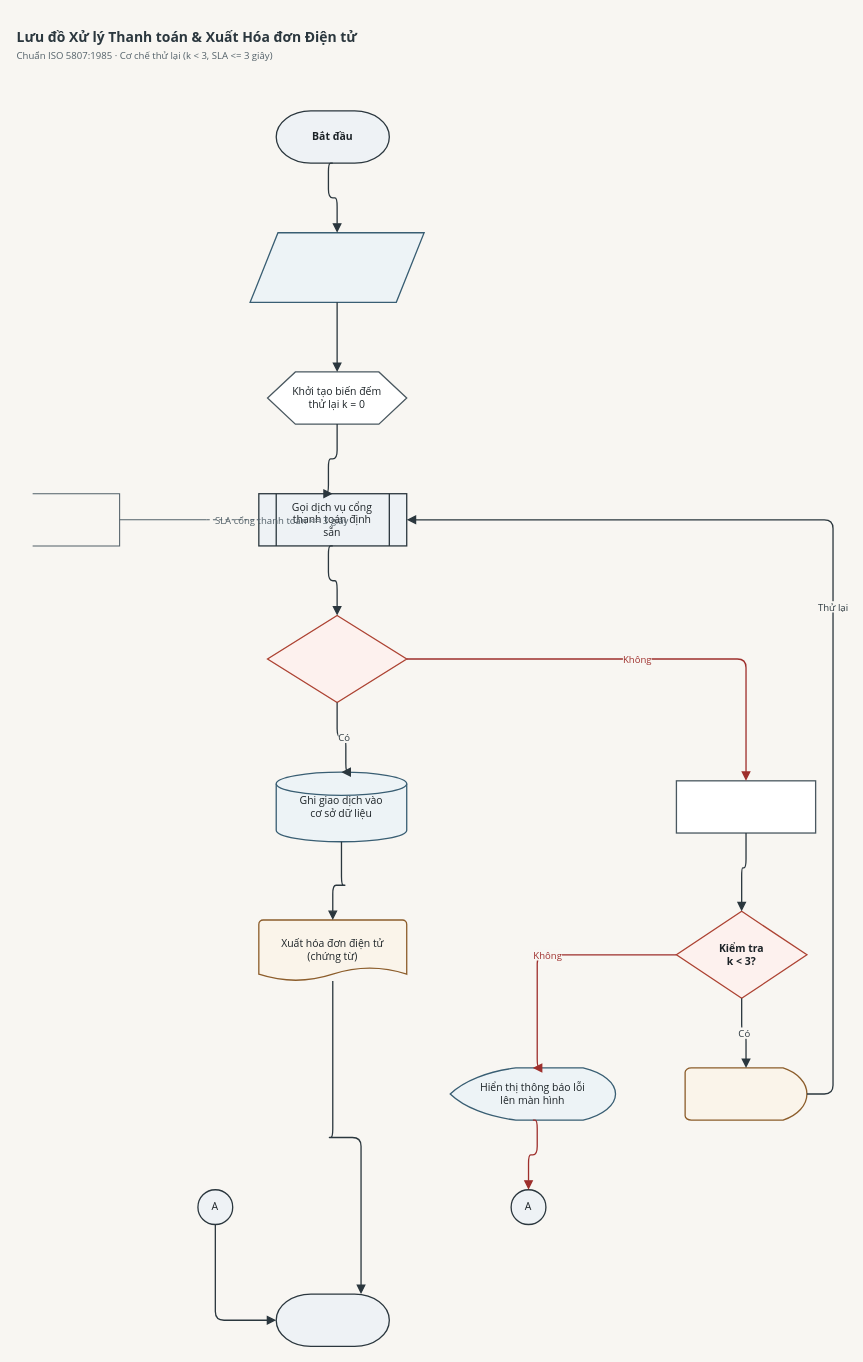
Image size: 863x1362. Some labels were removed from this diagram. The shapes that lost their labels are listed below. From the top down, each one's box as (x1, y1, x2, y2) in pixels, then its label:
(249, 232, 424, 303): Nhập thông tin đơn hàng & phương thức thanh toán
(266, 614, 407, 703): Giao dịch thành công?
(675, 780, 816, 833): Tăng biến đếm k = k + 1
(684, 1067, 807, 1120): Chờ 5 giây
(275, 1293, 390, 1347): Kết thúc
